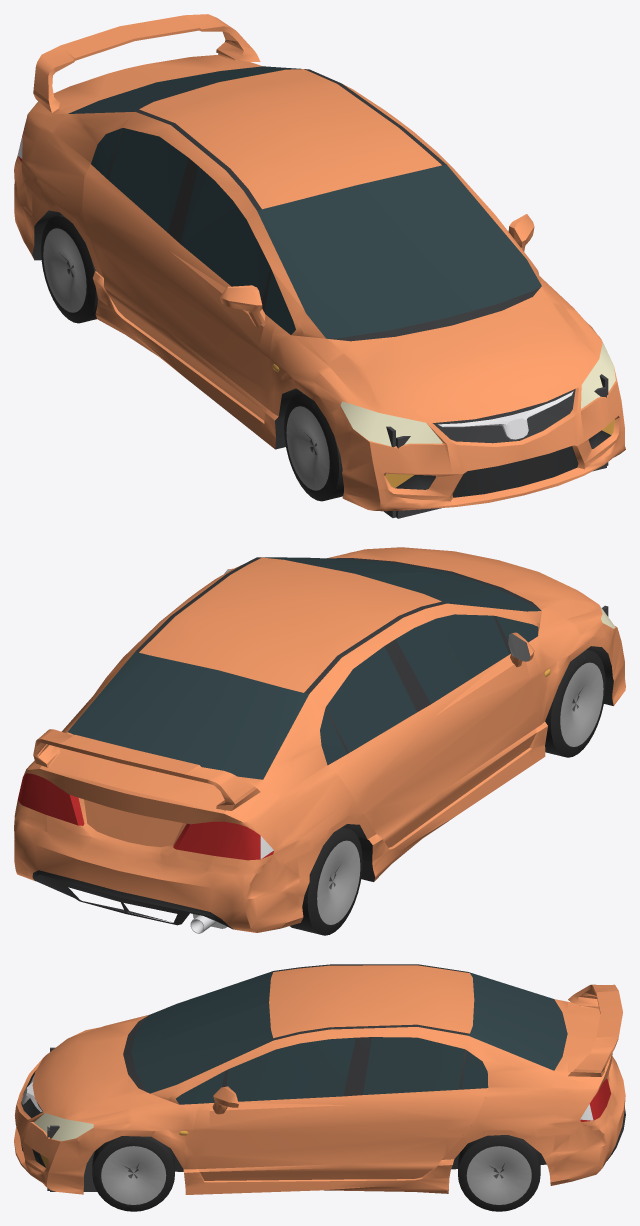
Rendered from civic_fd_2007_modular.glb.
The picture shows the model from 3 angles, top to bottom: view 1: azimuth 30°, elevation 25°; view 2: azimuth 150°, elevation 25°; view 3: azimuth 270°, elevation 25°; orthographic projection. The views are drawn at different scales.
Parts seen in each view (by area): view 1: shell_base, hood_stock, window_front_-1, bumper_front_stock, window_front_1, fender_fr_stock, windshield, window_rear_-1, wheel_fr, wheel_rr, trunk_stock, spoiler_rear_stock (+9 smaller); view 2: shell_base, rear_glass, bumper_rear_stock, window_front_-1, window_rear_-1, trunk_stock, fender_fr_stock, hood_stock, wheel_rr, wheel_fr, spoiler_rear_stock, sideskirt_r_stock (+6 smaller); view 3: shell_base, window_front_1, hood_stock, rear_glass, fender_fl_stock, window_rear_1, wheel_rl, wheel_fl, sideskirt_l_stock, bumper_rear_stock, bumper_front_stock, window_front_-1 (+7 smaller).
Boxes of the visible parts, x1,y1,x2,y2 form: shell_base: (16, 36, 608, 518); hood_stock: (331, 303, 600, 425); window_front_-1: (180, 166, 426, 334); bumper_front_stock: (348, 367, 624, 503); window_front_1: (355, 165, 526, 289); fender_fr_stock: (258, 317, 414, 488); windshield: (306, 259, 541, 338); window_rear_-1: (91, 128, 188, 232); wheel_fr: (284, 393, 343, 501); wheel_rr: (41, 215, 97, 323); trunk_stock: (31, 39, 260, 117); spoiler_rear_stock: (34, 14, 251, 97); shell_base: (16, 554, 615, 923); rear_glass: (68, 651, 308, 779); bumper_rear_stock: (14, 808, 299, 933); window_front_-1: (355, 572, 538, 703); window_rear_-1: (320, 646, 416, 765); trunk_stock: (31, 745, 260, 820); fender_fr_stock: (526, 609, 615, 744); hood_stock: (346, 547, 600, 618); wheel_rr: (290, 827, 362, 935); wheel_fr: (545, 649, 605, 757); spoiler_rear_stock: (34, 729, 251, 797); sideskirt_r_stock: (374, 734, 545, 880); shell_base: (47, 964, 613, 1194); window_front_1: (160, 1002, 355, 1104); hood_stock: (32, 1020, 127, 1120); rear_glass: (468, 972, 567, 1070); fender_fl_stock: (40, 1092, 209, 1178); window_rear_1: (363, 1037, 488, 1094); wheel_rl: (458, 1135, 540, 1211); wheel_fl: (92, 1136, 174, 1211); sideskirt_l_stock: (186, 1177, 446, 1194); bumper_rear_stock: (555, 1056, 625, 1184); bumper_front_stock: (14, 1059, 77, 1186); window_front_-1: (160, 971, 273, 1040).
Bounding box in the file's own units: 1.85 × 1.29 × 4.19.
